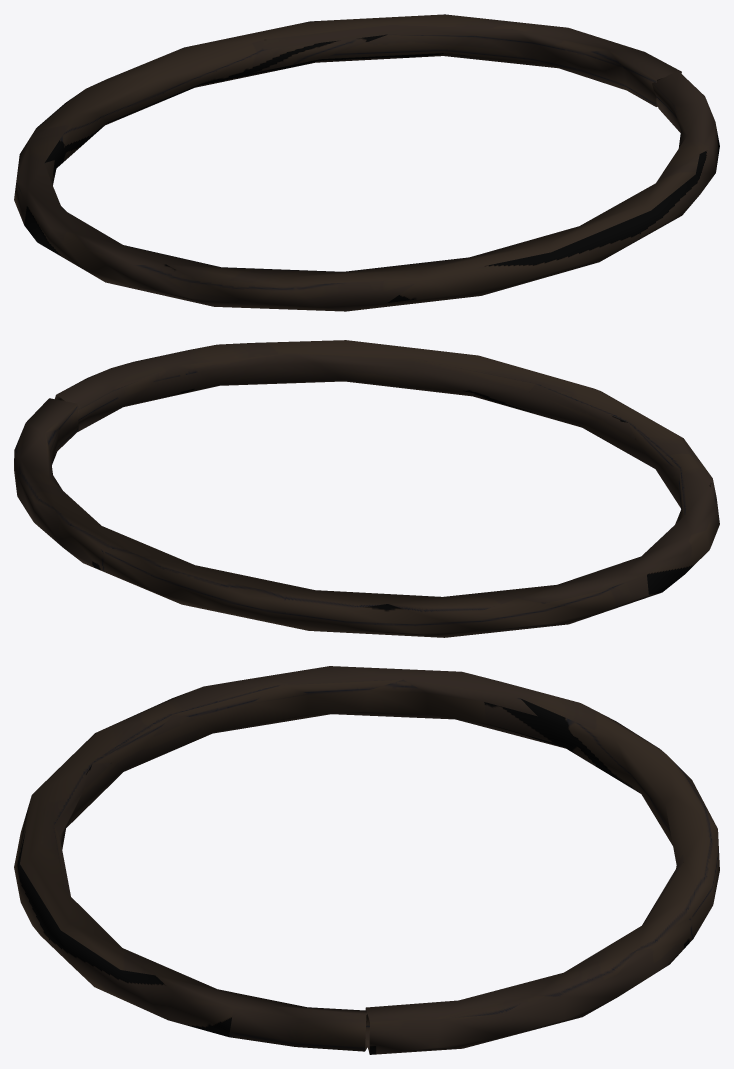
File: Albatros_Abrigo_Cuero.fbx
3 renders of one model, top to bottom at view 1: azimuth 30°, elevation 25°; view 2: azimuth 150°, elevation 25°; view 3: azimuth 270°, elevation 25°, orthographic. The views are drawn at different scales.
Parts seen in each view (by area): view 1: Albatros_Abrigo_Cuero; view 2: Albatros_Abrigo_Cuero; view 3: Albatros_Abrigo_Cuero.
Boxes of the visible parts, x1,y1,x2,y2 form: Albatros_Abrigo_Cuero: (14, 14, 719, 311); Albatros_Abrigo_Cuero: (14, 340, 719, 637); Albatros_Abrigo_Cuero: (14, 666, 719, 1054).
Bounding box in the file's own units: 3.12 × 0.171 × 2.59.
